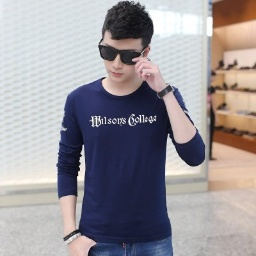face: (95, 1, 155, 82)
